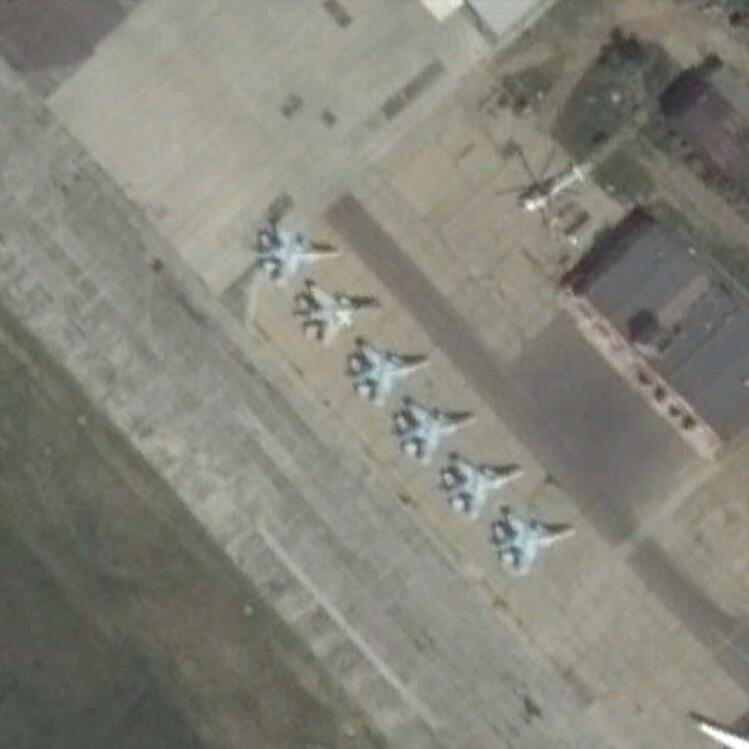A19: (253, 219, 343, 288), (348, 340, 432, 405), (293, 283, 382, 344), (489, 512, 576, 574), (442, 459, 526, 520), (393, 402, 475, 460)
